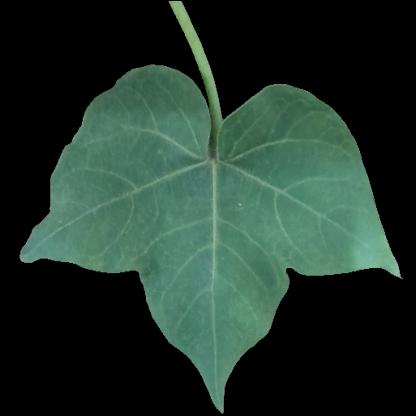healthy: (106, 107, 200, 271), (239, 120, 331, 270), (165, 271, 257, 341), (59, 161, 105, 261), (328, 175, 376, 267)
